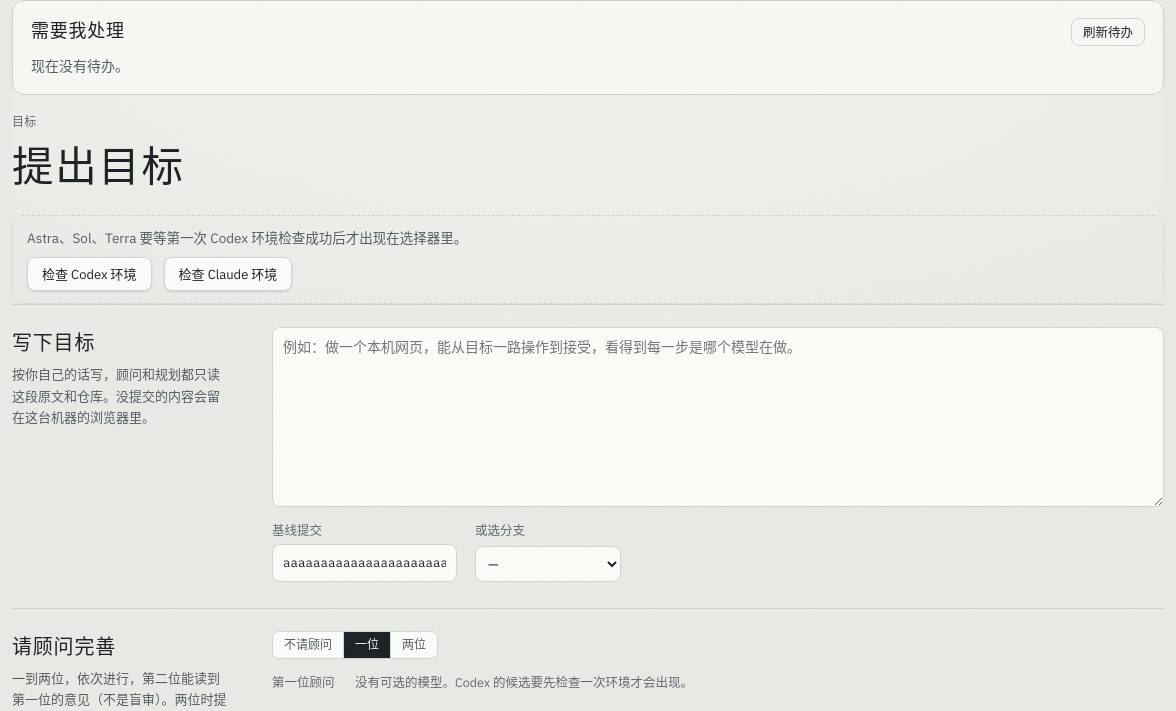
still renders when the new reads come back without their keys
Expected: the text "现在没有待办。" is shown, [31,57,129,75]
Type "A goal." into the text box named "原始目标". click: [718, 417]
box: [272,327,1164,507]
(page scrolled)
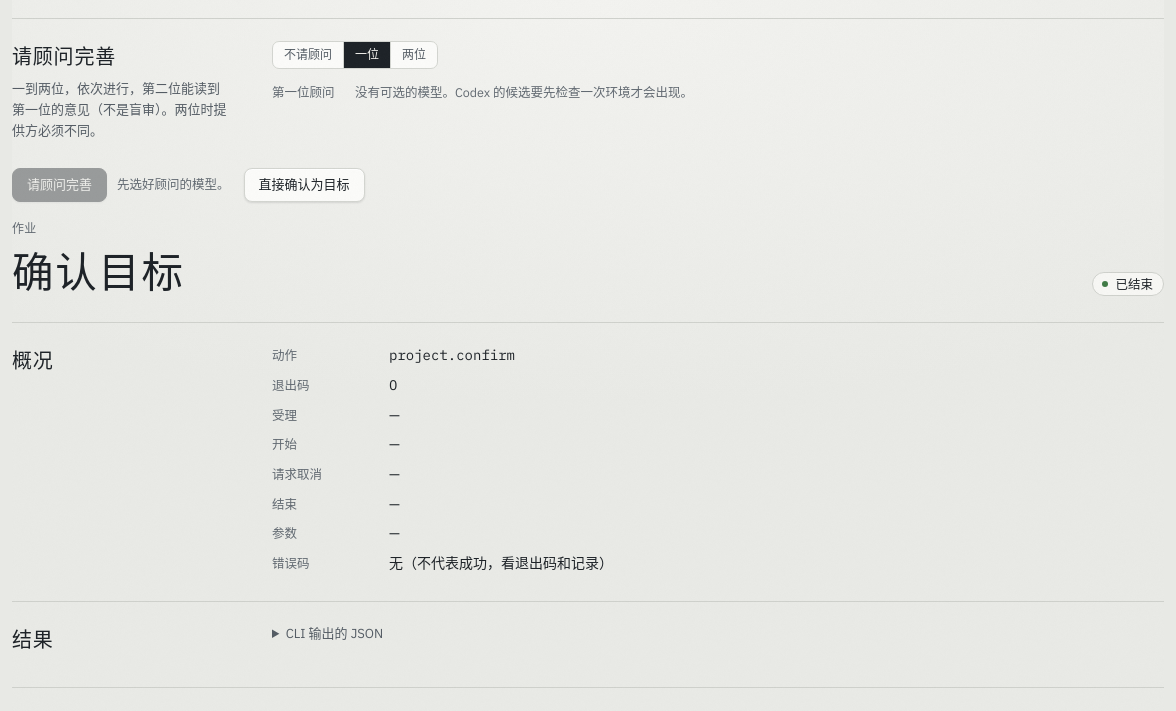
Expected: the heading "概况" is shown, [12,347,54,374]
Now the button "直接确认为目标" is enabled, box [244,168,364,202]
